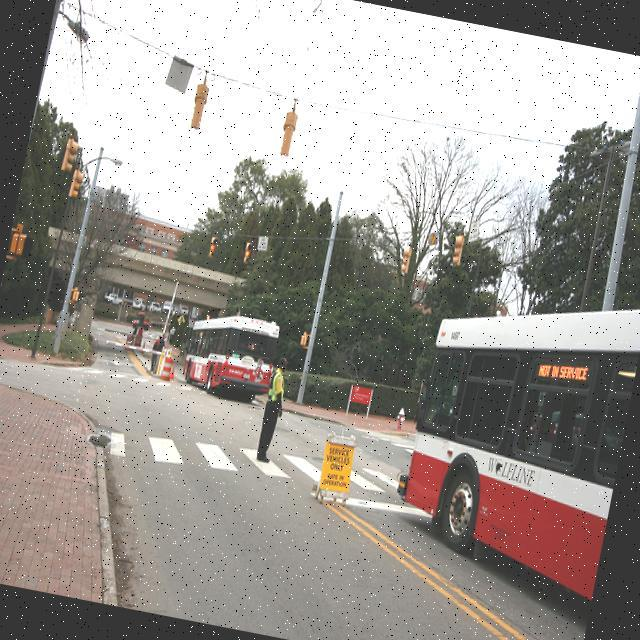fire_hydrant: (394, 406, 406, 430)
